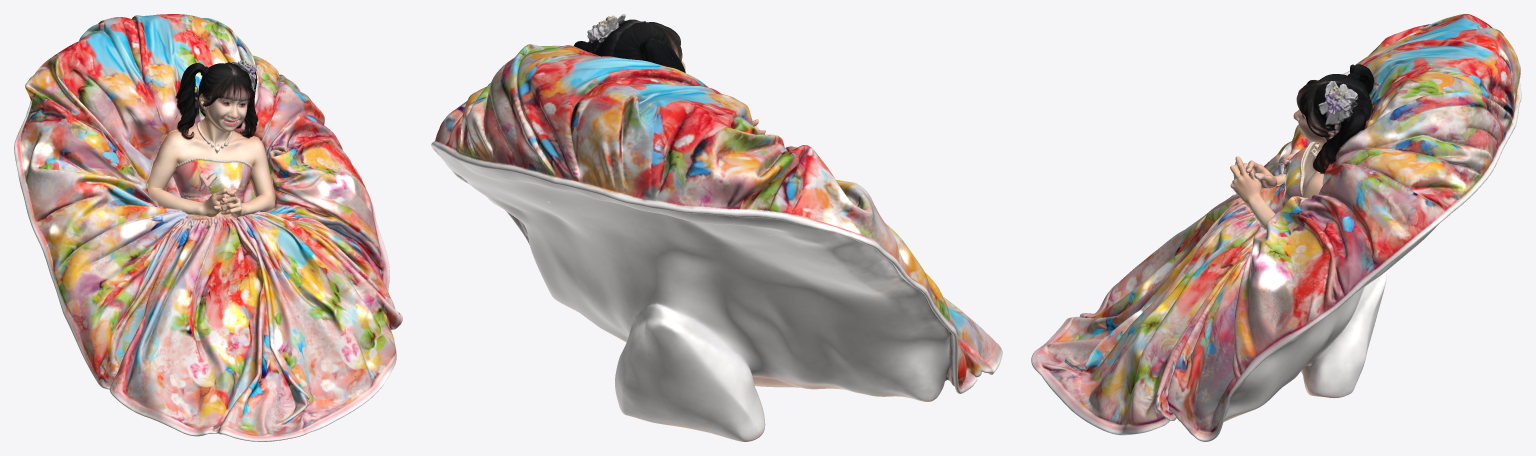
The picture shows the model from 3 angles, left to right: view 1: azimuth 30°, elevation 25°; view 2: azimuth 150°, elevation 25°; view 3: azimuth 270°, elevation 25°; orthographic projection. The views are drawn at different scales.
Bounding box in the file's own units: 1.7 × 1.46 × 1.9.
Materials: 1 (1 with a texture image).
